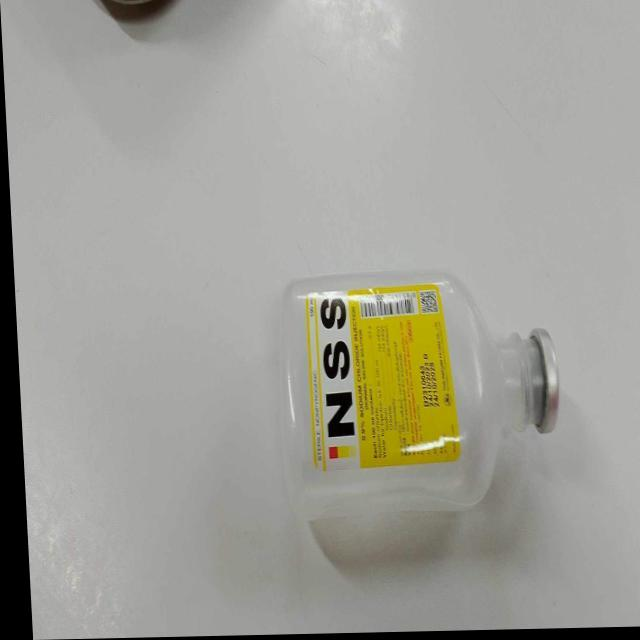General: (301, 281, 464, 474)
Sharps: (279, 268, 561, 524)
